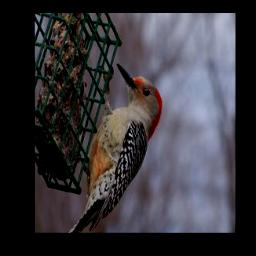Woodpecker: (74, 64, 163, 232)
